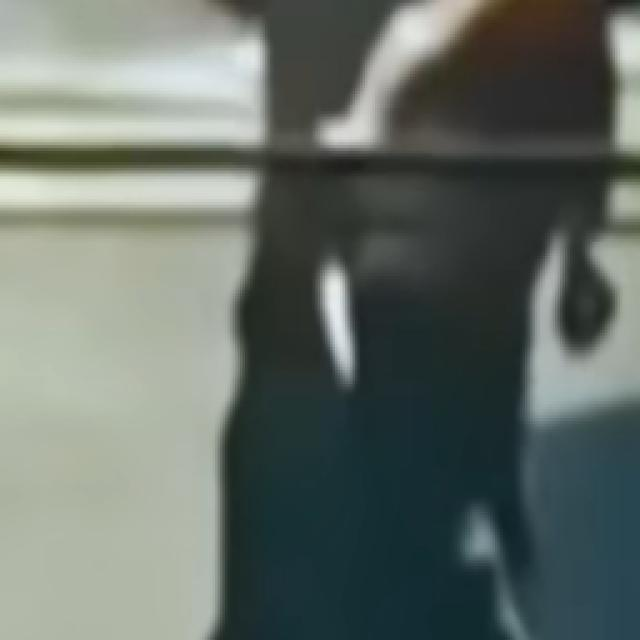Fknife: (308, 227, 370, 391)
